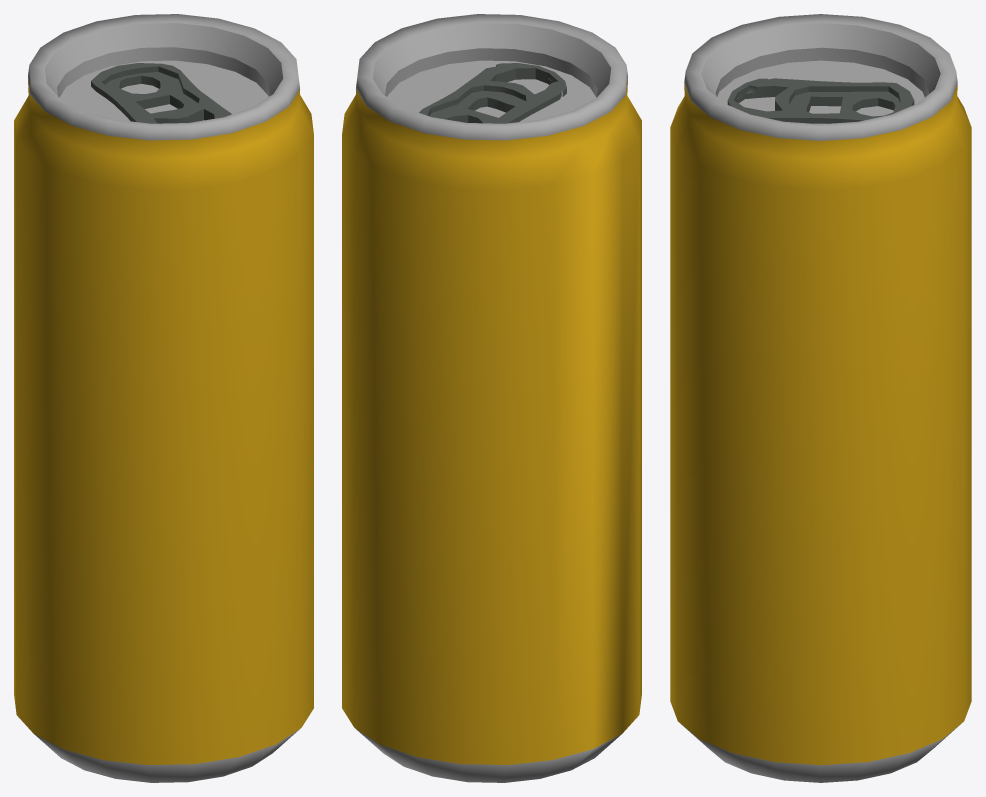
File: icetea.fbx
The picture shows the model from 3 angles, left to right: view 1: azimuth 30°, elevation 25°; view 2: azimuth 150°, elevation 25°; view 3: azimuth 270°, elevation 25°; orthographic projection.
Visible parts, largest first — view 1: icetea; view 2: icetea; view 3: icetea.
Boxes of the visible parts, box(x1,y1,x2,y2) form: icetea: box(14, 14, 313, 782); icetea: box(342, 14, 641, 782); icetea: box(670, 14, 971, 782).
Size of the model in its own units: 359 by 871 by 359.
